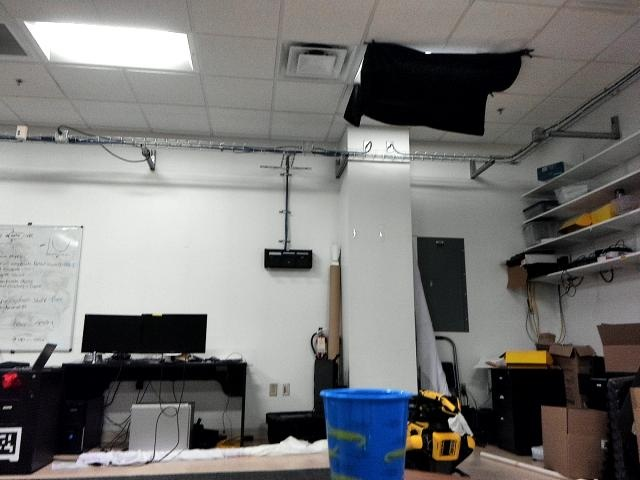water_cup: (317, 374, 411, 480)
